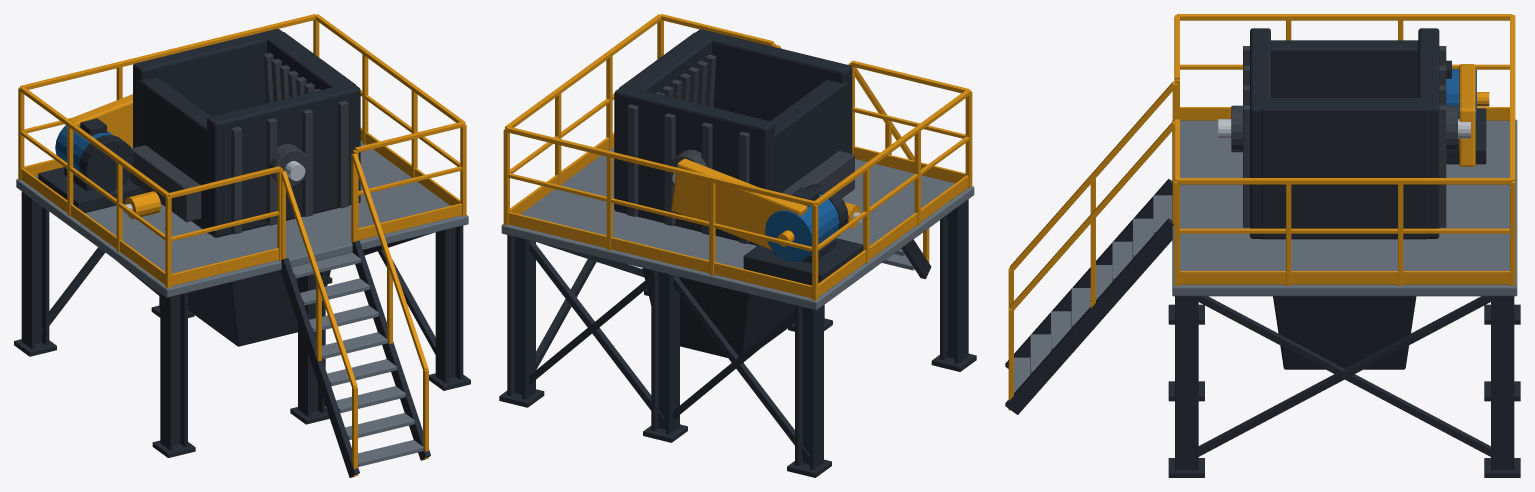
File: jaw_crusher_jc101.glb
3 renders of one model, left to right at view 1: azimuth 30°, elevation 25°; view 2: azimuth 150°, elevation 25°; view 3: azimuth 270°, elevation 25°, orthographic. The views are drawn at different scales.
Visible parts, largest first — view 1: JC101_Platform_Deck, JC101_SideCheekL, JC101_SideCheekR, JC101_RearFrameWall, JC101_DischargeChute, JC101_Stairs_StringerL, JC101_ToggleSeat, JC101_Stairs_StringerR, JC101_FrontFrameWall, JC101_Col_1_FlangeF, JC101_Col_4_FlangeF, JC101_Col_3_FlangeF (+52 smaller); view 2: JC101_Platform_Deck, JC101_SideCheekR, JC101_SideCheekL, JC101_RearFrameWall, JC101_DischargeChute, JC101_BeltGuard, JC101_Platform_RailN_ToeBoard, JC101_MotorSkid, JC101_DriveMotor_Body, JC101_FrontFrameWall, JC101_Col_1_FlangeF, JC101_Col_4_FlangeF (+45 smaller); view 3: JC101_Platform_Deck, JC101_FrontFrameWall, JC101_DischargeChute, JC101_RearFrameWall, JC101_Platform_RailE_ToeBoard, JC101_Stairs_StringerR, JC101_Col_3_FlangeB, JC101_Col_6_FlangeB, JC101_BraceE_DiagA, JC101_BraceE_DiagB, JC101_SideCheekR, JC101_SideCheekL (+26 smaller).
Part boxes in pixels (x1=…): JC101_Platform_Deck: x1=16, y1=140, x2=468, y2=297; JC101_SideCheekL: x1=207, y1=83, x2=360, y2=237; JC101_SideCheekR: x1=133, y1=29, x2=283, y2=147; JC101_RearFrameWall: x1=137, y1=77, x2=211, y2=234; JC101_DischargeChute: x1=188, y1=270, x2=330, y2=346; JC101_Stairs_StringerL: x1=280, y1=258, x2=359, y2=477; JC101_ToggleSeat: x1=130, y1=145, x2=201, y2=221; JC101_Stairs_StringerR: x1=352, y1=240, x2=430, y2=460; JC101_FrontFrameWall: x1=265, y1=32, x2=355, y2=89; JC101_Col_1_FlangeF: x1=160, y1=293, x2=173, y2=450; JC101_Col_4_FlangeF: x1=21, y1=191, x2=34, y2=348; JC101_Col_3_FlangeF: x1=435, y1=229, x2=448, y2=383; JC101_Platform_Deck: x1=501, y1=146, x2=974, y2=310; JC101_SideCheekR: x1=614, y1=86, x2=774, y2=245; JC101_SideCheekL: x1=695, y1=29, x2=852, y2=153; JC101_RearFrameWall: x1=770, y1=80, x2=847, y2=192; JC101_DischargeChute: x1=642, y1=268, x2=794, y2=357; JC101_BeltGuard: x1=671, y1=158, x2=807, y2=250; JC101_Platform_RailN_ToeBoard: x1=508, y1=212, x2=811, y2=298; JC101_MotorSkid: x1=743, y1=238, x2=863, y2=285; JC101_DriveMotor_Body: x1=765, y1=193, x2=839, y2=261; JC101_FrontFrameWall: x1=619, y1=32, x2=713, y2=93; JC101_Col_1_FlangeF: x1=954, y1=199, x2=968, y2=363; JC101_Col_4_FlangeF: x1=810, y1=305, x2=823, y2=469; JC101_Platform_Deck: x1=1172, y1=119, x2=1517, y2=296; JC101_FrontFrameWall: x1=1261, y1=98, x2=1428, y2=239; JC101_DischargeChute: x1=1273, y1=296, x2=1416, y2=369; JC101_RearFrameWall: x1=1271, y1=40, x2=1418, y2=97; JC101_Platform_RailE_ToeBoard: x1=1180, y1=271, x2=1509, y2=284; JC101_Stairs_StringerR: x1=1005, y1=218, x2=1174, y2=414; JC101_Col_3_FlangeB: x1=1175, y1=296, x2=1198, y2=470; JC101_Col_6_FlangeB: x1=1491, y1=296, x2=1514, y2=470; JC101_BraceE_DiagA: x1=1198, y1=296, x2=1490, y2=456; JC101_BraceE_DiagB: x1=1198, y1=296, x2=1490, y2=456; JC101_SideCheekR: x1=1418, y1=28, x2=1439, y2=238; JC101_SideCheekL: x1=1250, y1=28, x2=1270, y2=238.
Size of the model in its own units: 3.41 by 3.1 by 4.41.
